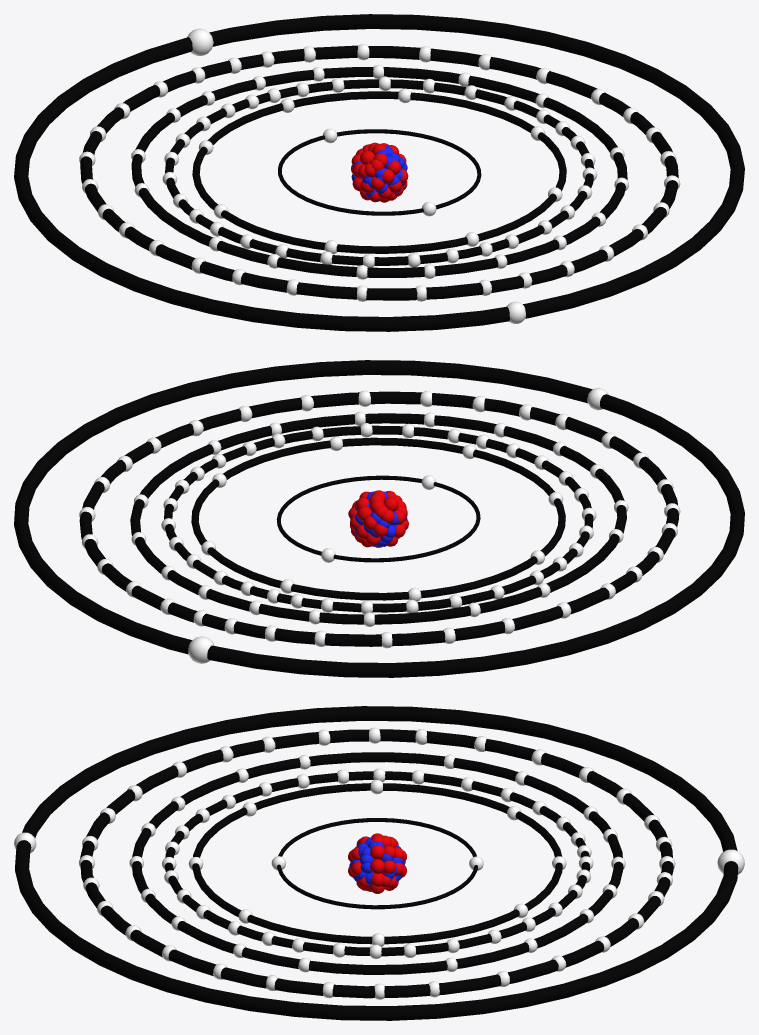
The model's file is 60 Neodimio.fbx.
3 renders of one model, top to bottom at view 1: azimuth 30°, elevation 25°; view 2: azimuth 150°, elevation 25°; view 3: azimuth 270°, elevation 25°, orthographic.
Visible parts, largest first — view 1: Orbita.006, Orbita.005, Orbita.004, Orbita.003, Orbita.002, Electron.111, Orbita.001, Electron.093; view 2: Orbita.006, Orbita.005, Orbita.004, Orbita.003, Orbita.002, Electron.111, Orbita.001, Electron.093; view 3: Orbita.006, Orbita.005, Orbita.004, Orbita.003, Orbita.002, Electron.111, Orbita.001.
Part boxes in pixels (<box>): Orbita.006: <box>14,14,744,331</box>; Orbita.005: <box>80,45,678,300</box>; Orbita.004: <box>131,67,627,277</box>; Orbita.003: <box>165,79,594,265</box>; Orbita.002: <box>192,91,566,253</box>; Electron.111: <box>351,142,408,202</box>; Orbita.001: <box>278,129,481,215</box>; Electron.093: <box>187,28,213,56</box>; Orbita.006: <box>14,360,744,677</box>; Orbita.005: <box>79,391,678,646</box>; Orbita.004: <box>130,413,626,624</box>; Orbita.003: <box>164,425,593,612</box>; Orbita.002: <box>191,437,565,600</box>; Electron.111: <box>348,490,408,547</box>; Orbita.001: <box>276,475,480,562</box>; Electron.093: <box>188,636,214,663</box>; Orbita.006: <box>15,706,738,1020</box>; Orbita.005: <box>80,729,673,998</box>; Orbita.004: <box>132,752,623,974</box>; Orbita.003: <box>164,771,589,956</box>; Orbita.002: <box>192,783,562,944</box>; Electron.111: <box>348,833,406,893</box>; Orbita.001: <box>277,818,477,909</box>.
Size of the model in its own units: 33.82 by 33.5 by 2.85.
